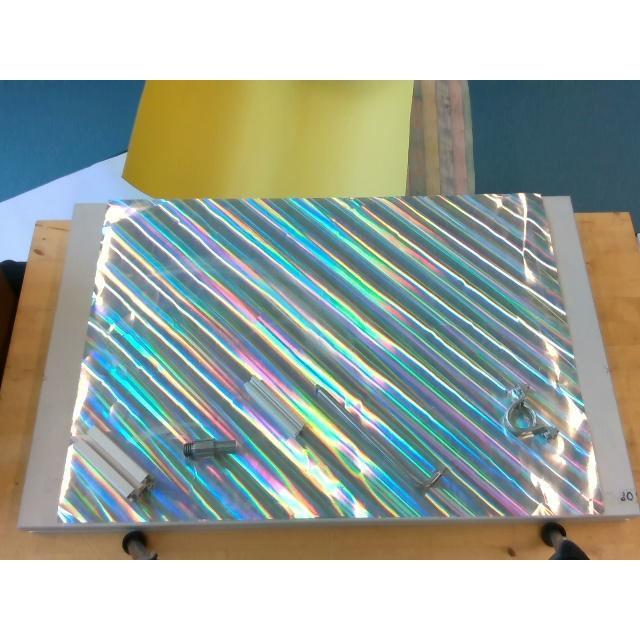AllenKey: (312, 384, 452, 516)
Axis2: (182, 439, 238, 459)
F20_20_G: (244, 376, 304, 438)
Housing: (504, 389, 558, 443)
S40_40_G: (70, 428, 152, 499)
